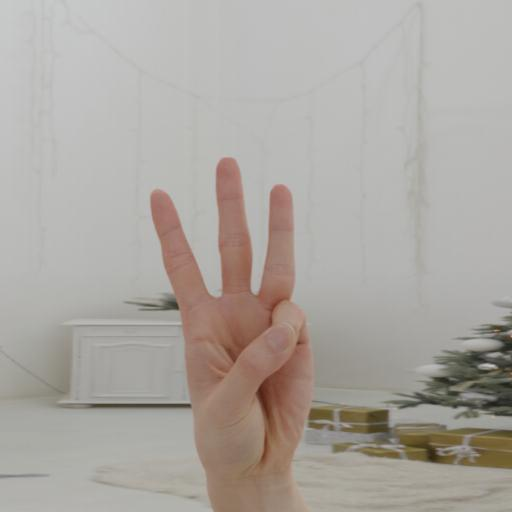W: (134, 157, 329, 512)
